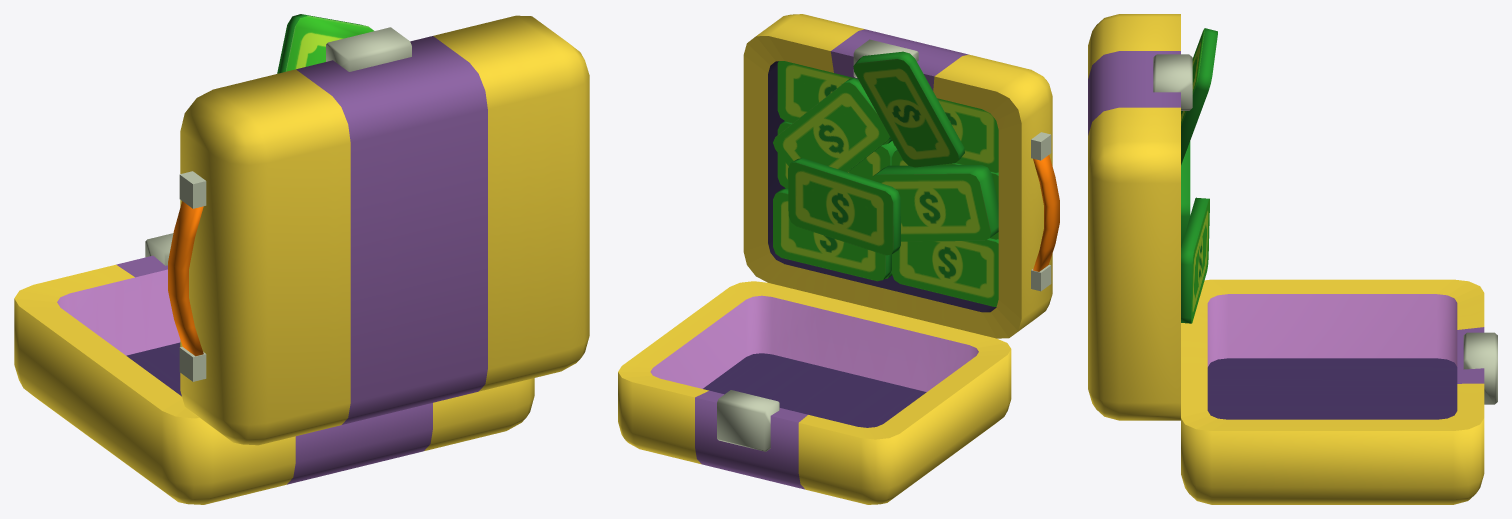
The model's file is Booster_moneycase.fbx.
3 views of the same model, side by side, from view 1: azimuth 30°, elevation 25°; view 2: azimuth 150°, elevation 25°; view 3: azimuth 270°, elevation 25° (orthographic). The views are drawn at different scales.
Parts seen in each view (by area): view 1: Money_case.001; view 2: Money_case.001; view 3: Money_case.001.
Boxes of the visible parts, <box> form: Money_case.001: <box>14,14,589,504</box>; Money_case.001: <box>618,14,1059,504</box>; Money_case.001: <box>1088,14,1497,504</box>.
Size of the model in its own units: 123 by 138 by 131.
Materials: 2 (2 with a texture image).
